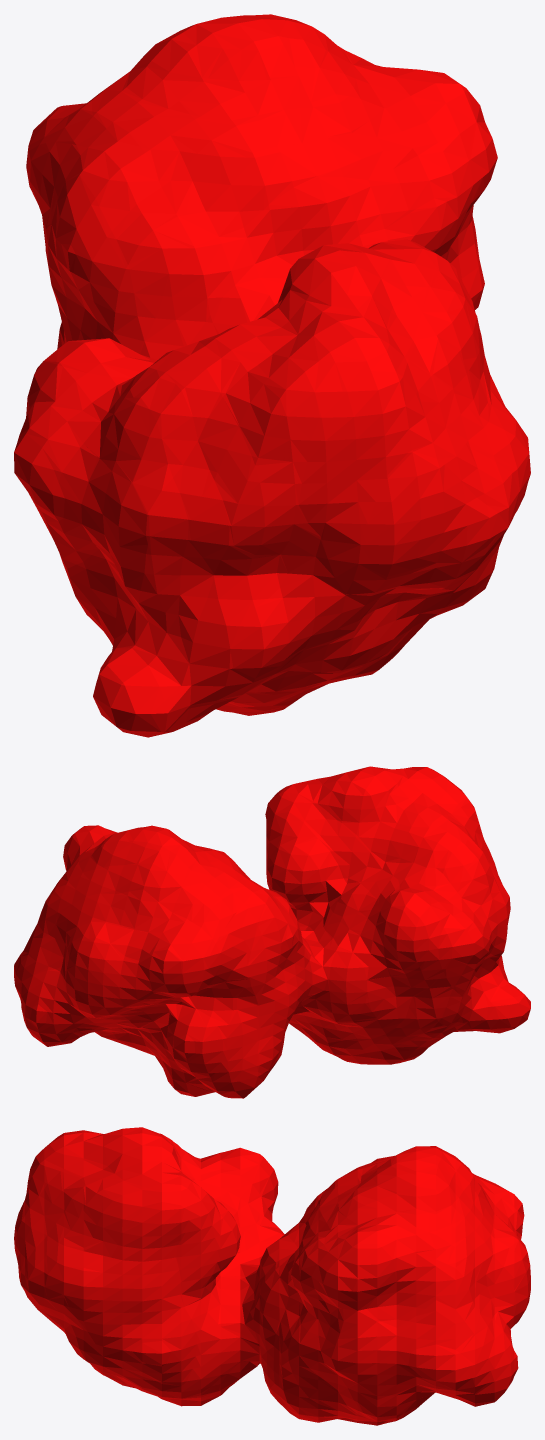
File: ycfH_coarse.dae
The picture shows the model from 3 angles, top to bottom: view 1: azimuth 30°, elevation 25°; view 2: azimuth 150°, elevation 25°; view 3: azimuth 270°, elevation 25°; orthographic projection. The views are drawn at different scales.
Parts seen in each view (by area): view 1: ycfH; view 2: ycfH; view 3: ycfH.
Part boxes in pixels (<box>): ycfH: <box>14,14,530,737</box>; ycfH: <box>14,766,530,1098</box>; ycfH: <box>14,1127,530,1425</box>.
Size of the model in its own units: 70.75 by 55.72 by 87.01.
